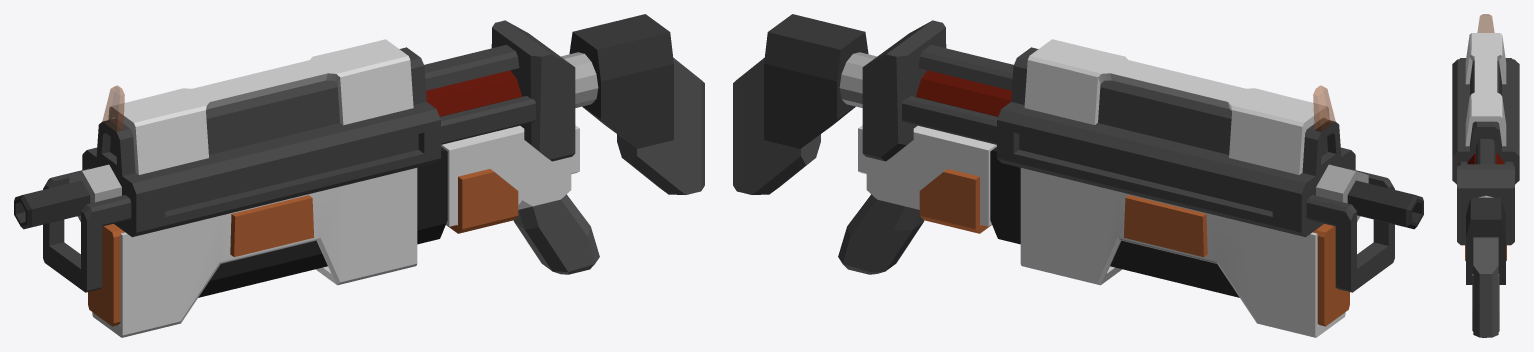
File: jiqiang.fbx
3 views of the same model, side by side, from view 1: azimuth 30°, elevation 25°; view 2: azimuth 150°, elevation 25°; view 3: azimuth 270°, elevation 25° (orthographic). The views are drawn at different scales.
Visible parts, largest first — view 1: polySurface8; view 2: polySurface8; view 3: polySurface8.
Boxes of the visible parts, bbox=[...] form: polySurface8: bbox=[14, 14, 704, 337]; polySurface8: bbox=[733, 14, 1423, 337]; polySurface8: bbox=[1452, 14, 1519, 337].
Size of the model in its own units: 9.31 by 3.81 by 1.28.
